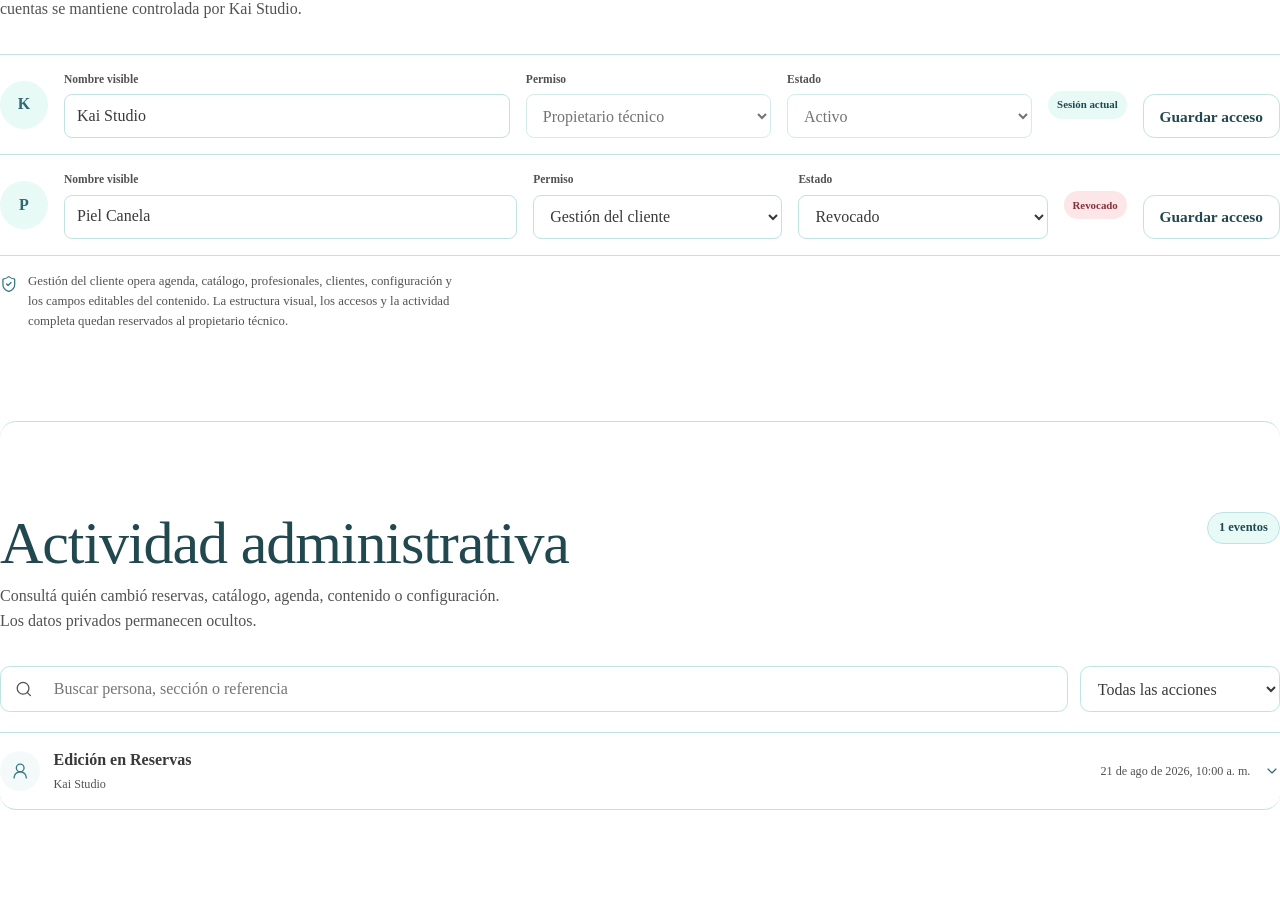
it: GovernanceAdmin › filtra la actividad sin exponer el detalle del registro
(page scrolled)
Type "sin coincidencia" into the field with placeholder "Buscar persona, sección o referencia" at (534, 689), box x1=14 y1=667 x2=1054 y2=711
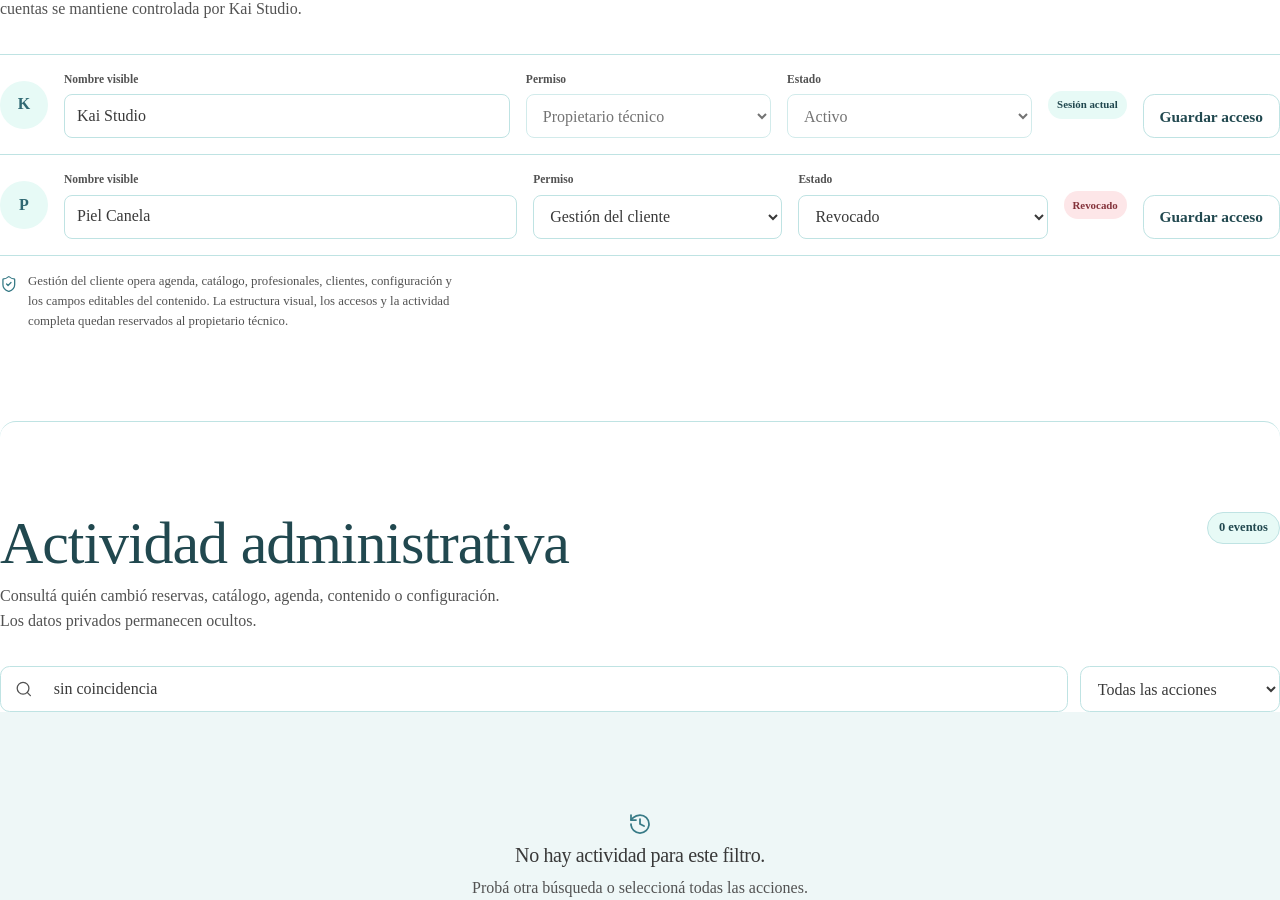
Check: the heading "No hay actividad para este filtro." is shown, box x1=515 y1=846 x2=765 y2=866
